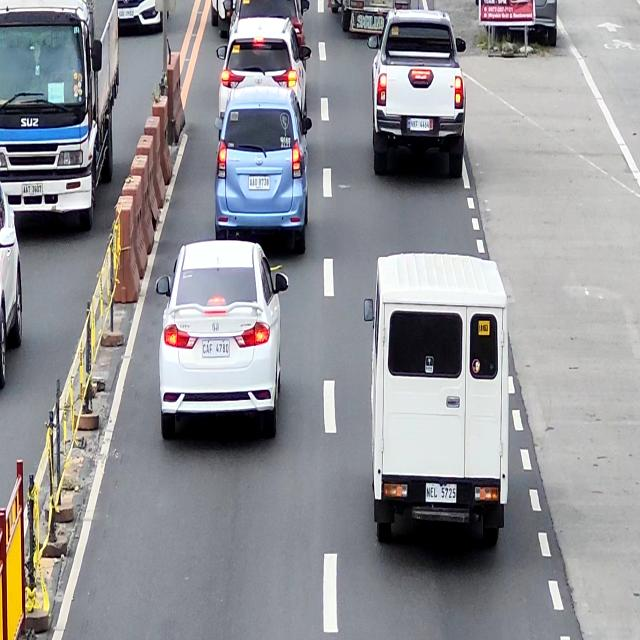Car: (364, 254, 508, 547), (155, 241, 289, 440), (367, 10, 467, 181), (216, 86, 310, 255), (218, 16, 311, 143), (0, 182, 24, 388), (230, 0, 310, 48), (116, 0, 170, 34)
Jeep: (330, 0, 412, 39)
License-Plate: (425, 483, 457, 504), (202, 339, 229, 358), (249, 176, 270, 191), (410, 118, 430, 132), (22, 183, 43, 196), (118, 9, 134, 19)
Truck: (0, 0, 119, 232)
